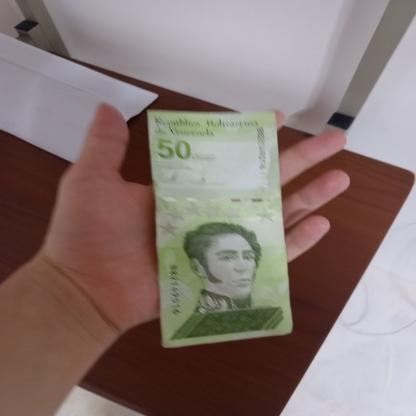fifty-front-vef: (146, 111, 293, 348)
